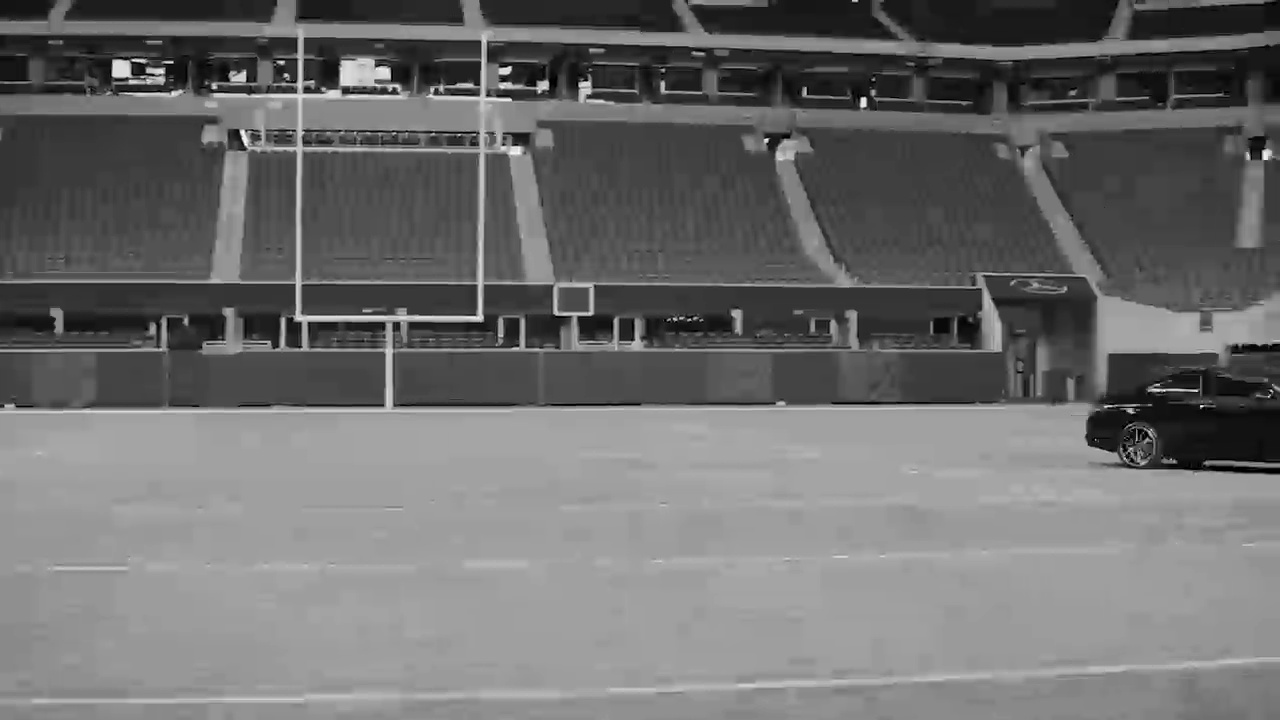car: (1084, 363, 1280, 468)
